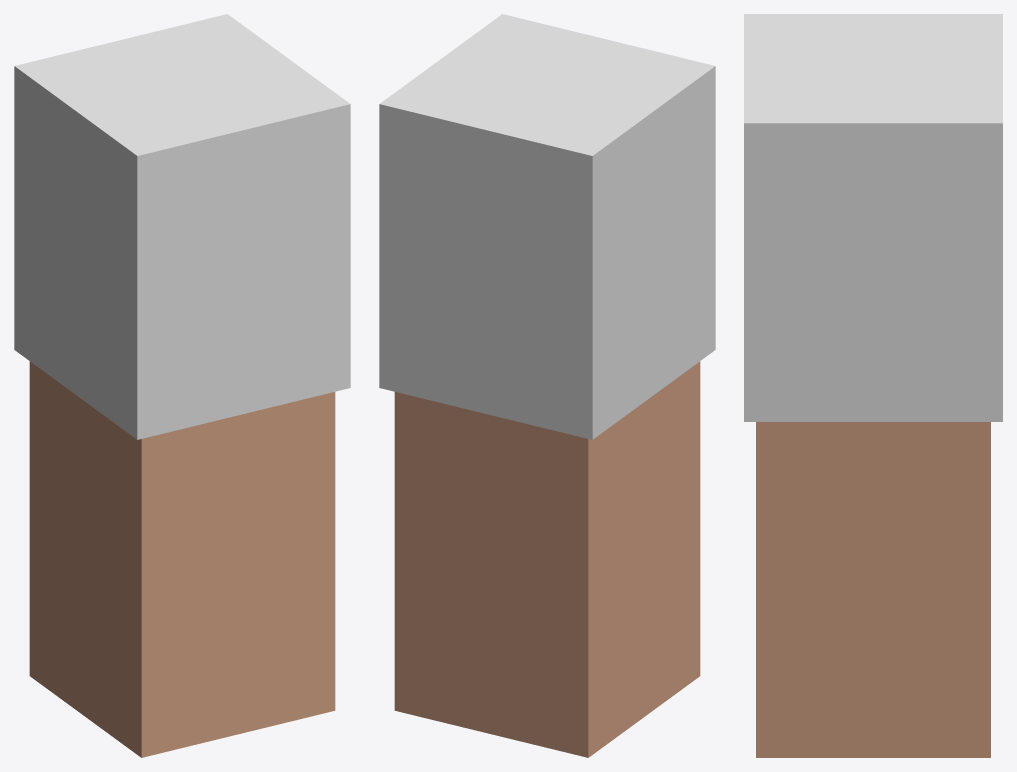
Rendered from j1_brazo.obj.
The picture shows the model from 3 angles, left to right: view 1: azimuth 30°, elevation 25°; view 2: azimuth 150°, elevation 25°; view 3: azimuth 270°, elevation 25°; orthographic projection. The views are drawn at different scales.
Bounding box in the file's own units: 0.11 × 0.3 × 0.11.
2 materials, 2 textured.
